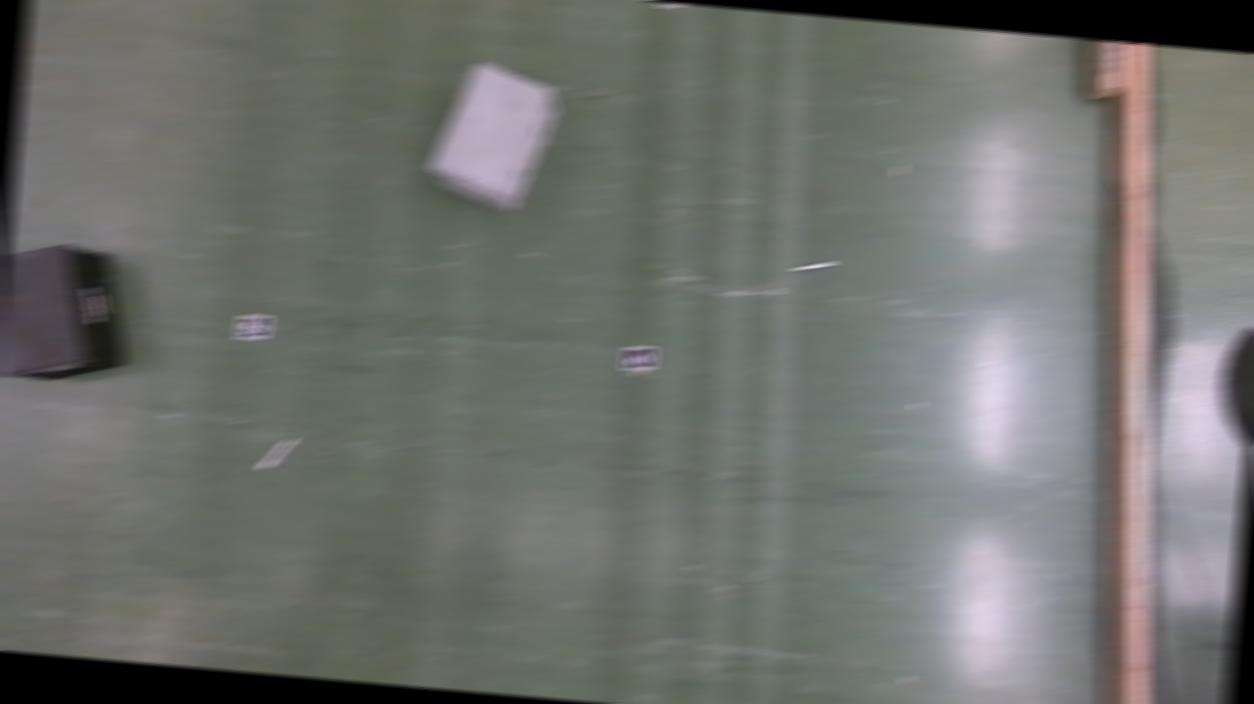probes: (258, 435, 294, 471), (791, 258, 835, 274)
rako: (423, 59, 564, 214), (0, 238, 136, 387)
